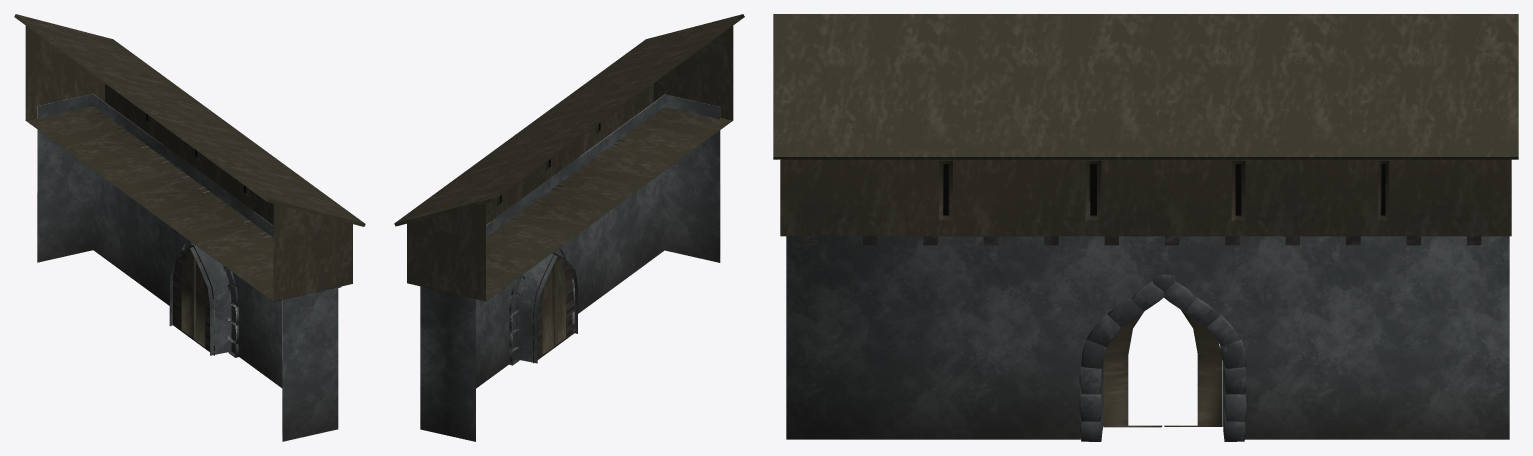
File: castleOuter_gate.glb
The picture shows the model from 3 angles, left to right: view 1: azimuth 30°, elevation 25°; view 2: azimuth 150°, elevation 25°; view 3: azimuth 270°, elevation 25°; orthographic projection. The views are drawn at different scales.
Visible parts, largest first — view 1: gate; view 2: gate; view 3: gate.
Part boxes in pixels (x1=…): gate: x1=14, y1=14, x2=365, y2=441; gate: x1=394, y1=14, x2=744, y2=441; gate: x1=773, y1=14, x2=1518, y2=441.
Bounding box in the file's own units: 6.22 × 15.17 × 27.42.
1 material, 1 textured.
